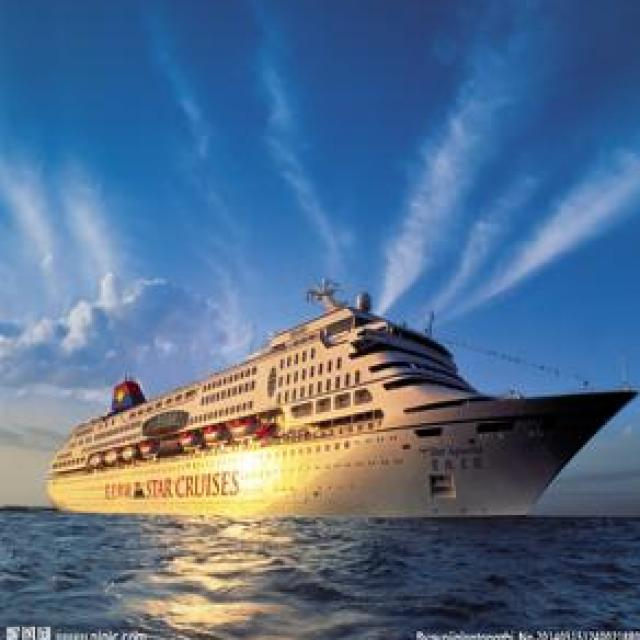houseboat: (28, 292, 640, 522)
